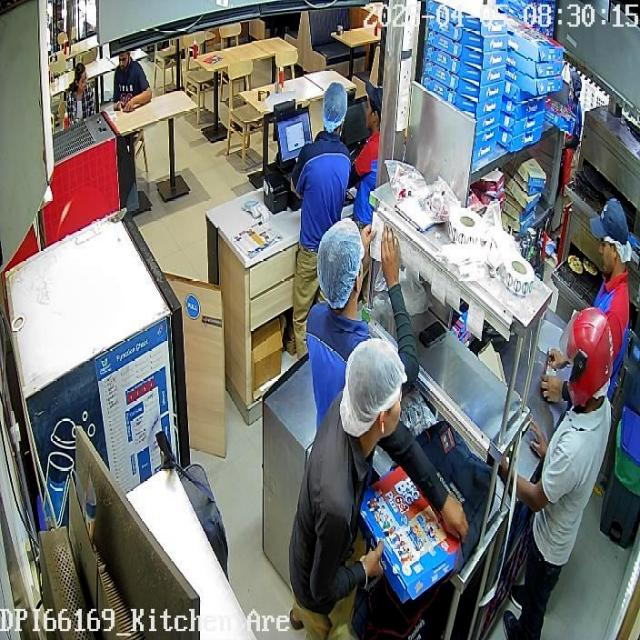helmet: (559, 307, 614, 409)
no_helmet: (341, 338, 408, 457), (315, 217, 365, 320), (588, 198, 631, 277), (323, 83, 347, 133)
